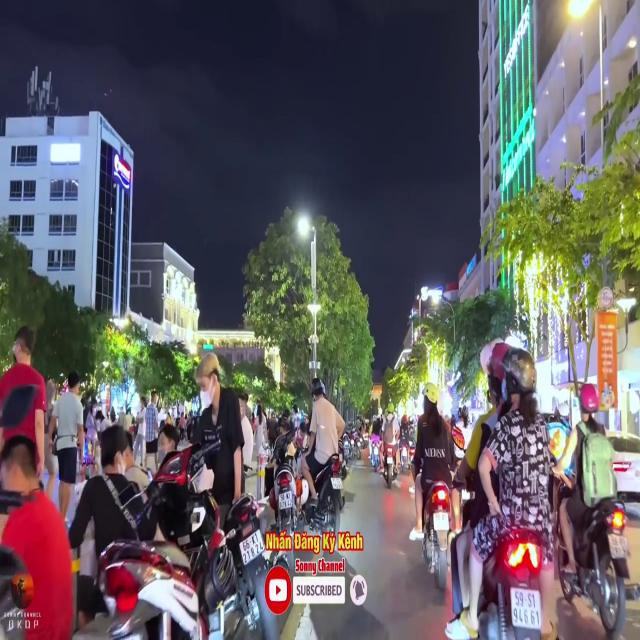bien_trang: (508, 584, 544, 631), (239, 529, 265, 567), (277, 491, 293, 512)
